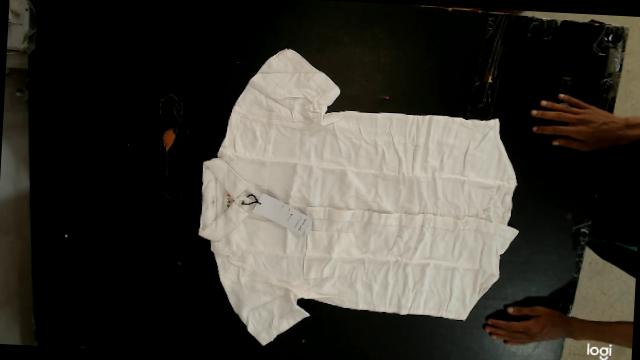new-garment: (198, 49, 517, 344)
